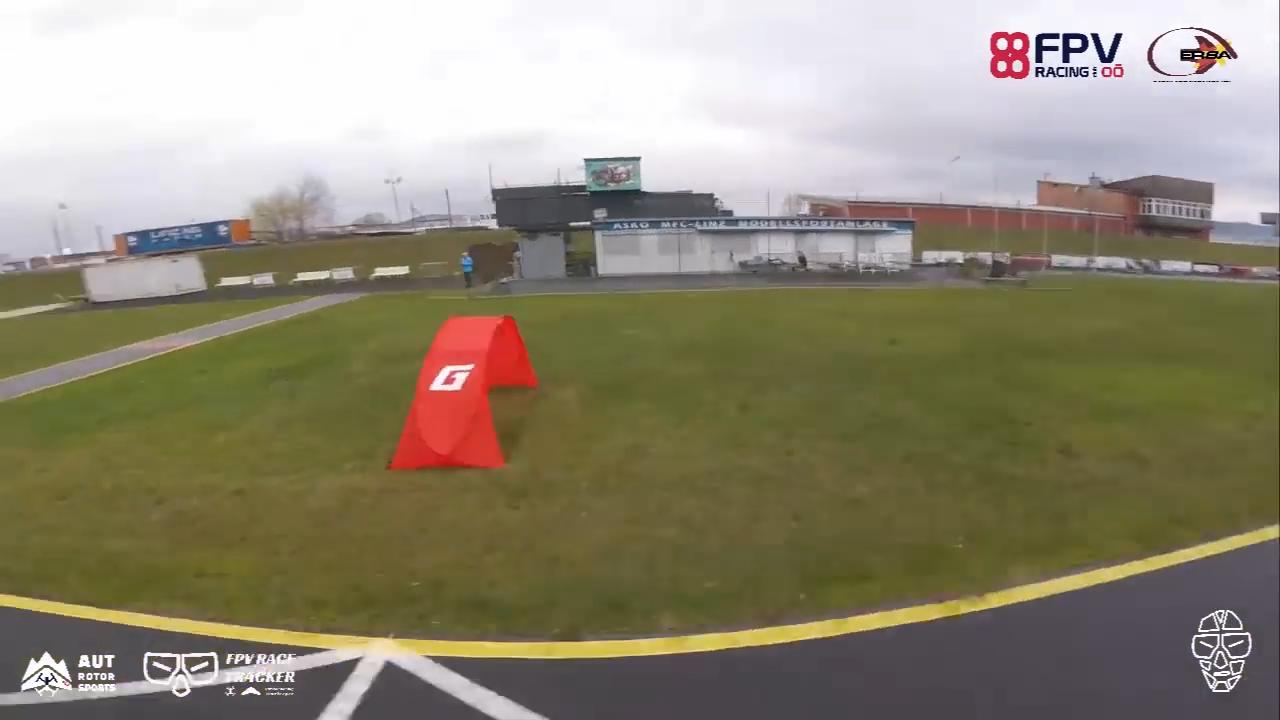gate: (384, 315, 544, 470)
